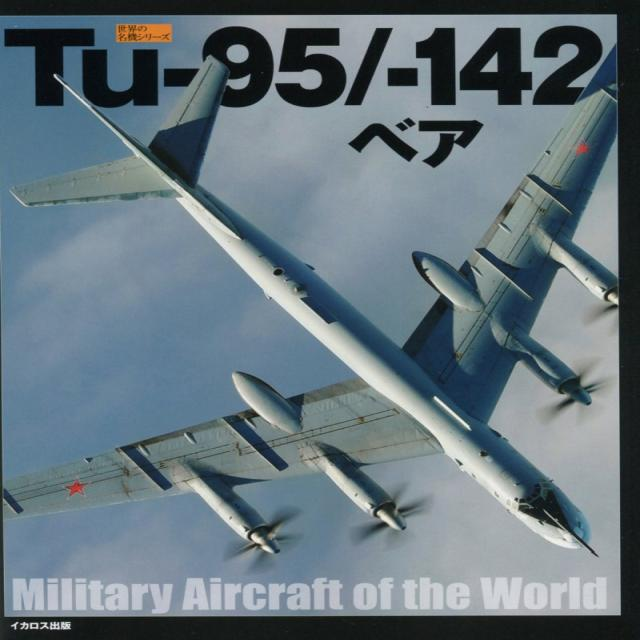MIL_Plane: (2, 42, 619, 574)
